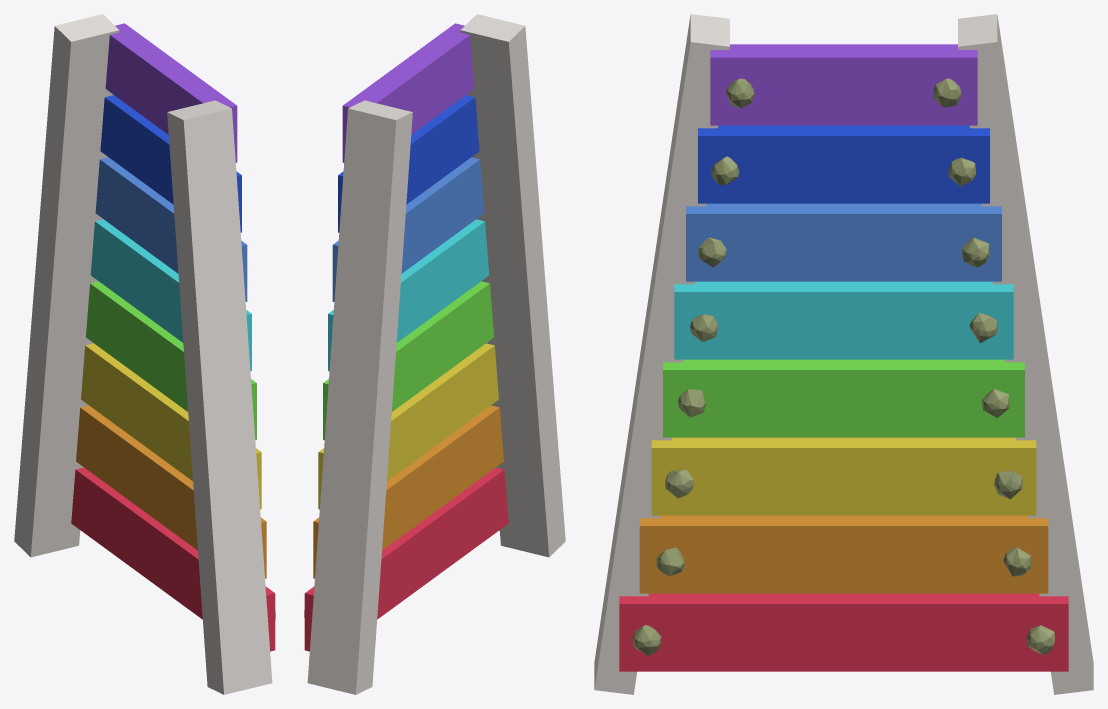
The model's file is xylophone2.fbx.
3 renders of one model, left to right at view 1: azimuth 30°, elevation 25°; view 2: azimuth 150°, elevation 25°; view 3: azimuth 270°, elevation 25°, orthographic. The views are drawn at different scales.
Parts seen in each view (by area): view 1: Cube; view 2: Cube; view 3: Cube.
Boxes of the visible parts, x1,y1,x2,y2 form: Cube: (14, 14, 275, 694); Cube: (304, 14, 565, 694); Cube: (594, 14, 1093, 694).
Size of the model in its own units: 160 by 1167 by 809.
